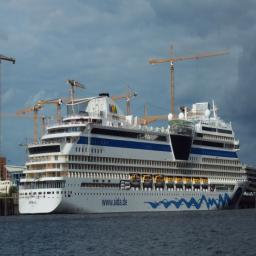cruises: (18, 94, 246, 218)
